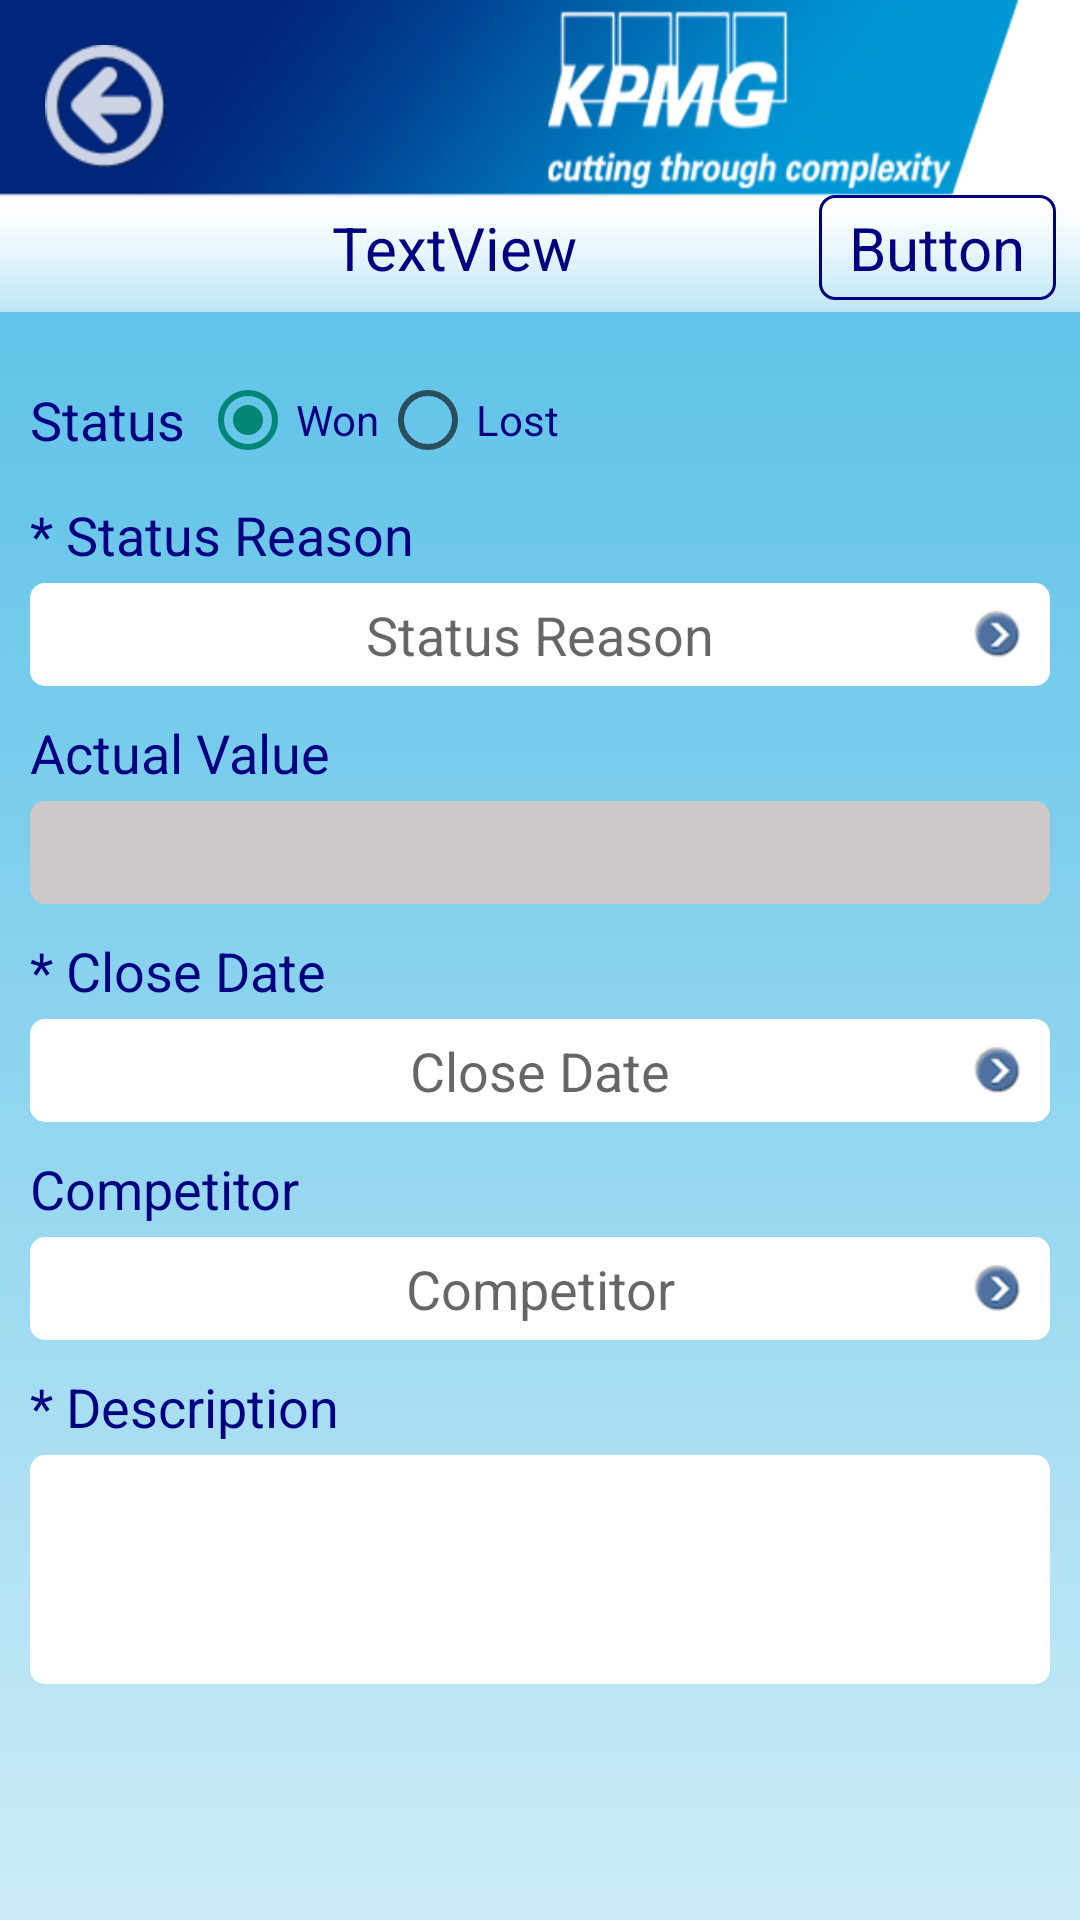

Named icons in this screenshot (1080w x 1920h) and their bounding boxes, (x1, y1, x2, y2):
back: (45, 45, 165, 167)
